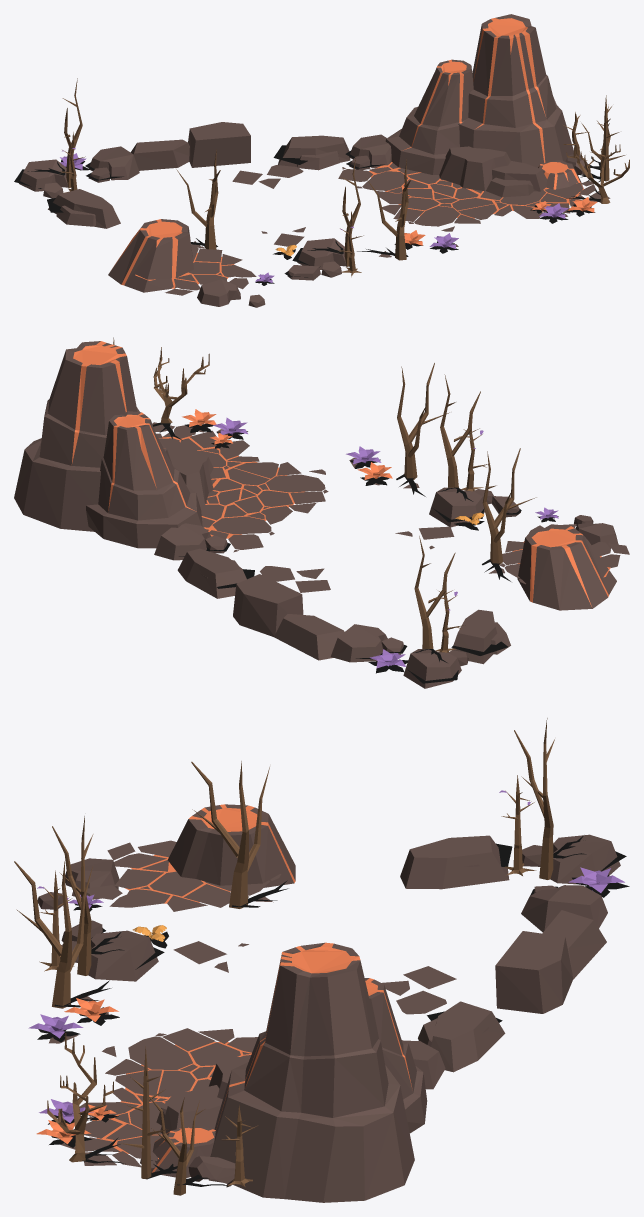
File: xweilan_1019_0.FBX
The picture shows the model from 3 angles, top to bottom: view 1: azimuth 30°, elevation 25°; view 2: azimuth 150°, elevation 25°; view 3: azimuth 270°, elevation 25°; orthographic projection. The views are drawn at different scales.
Visible parts, largest first — view 1: xweilan_1019_0; view 2: xweilan_1019_0; view 3: xweilan_1019_0.
Part boxes in pixels (x1=…): xweilan_1019_0: x1=14, y1=14, x2=629, y2=307; xweilan_1019_0: x1=14, y1=337, x2=629, y2=688; xweilan_1019_0: x1=14, y1=718, x2=629, y2=1202.
Bounding box in the file's own units: 8906 × 2393 × 6483.
